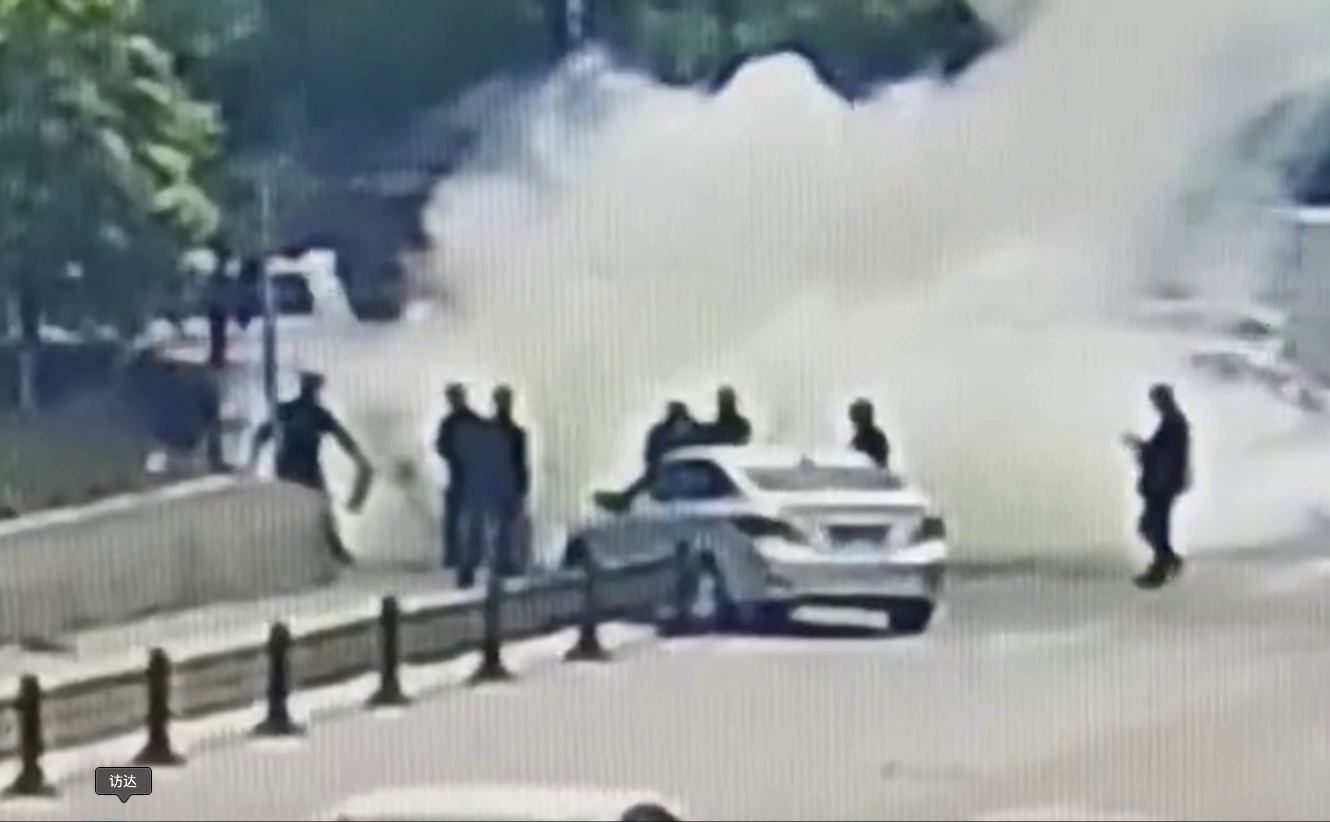smoke: (305, 74, 1135, 508)
